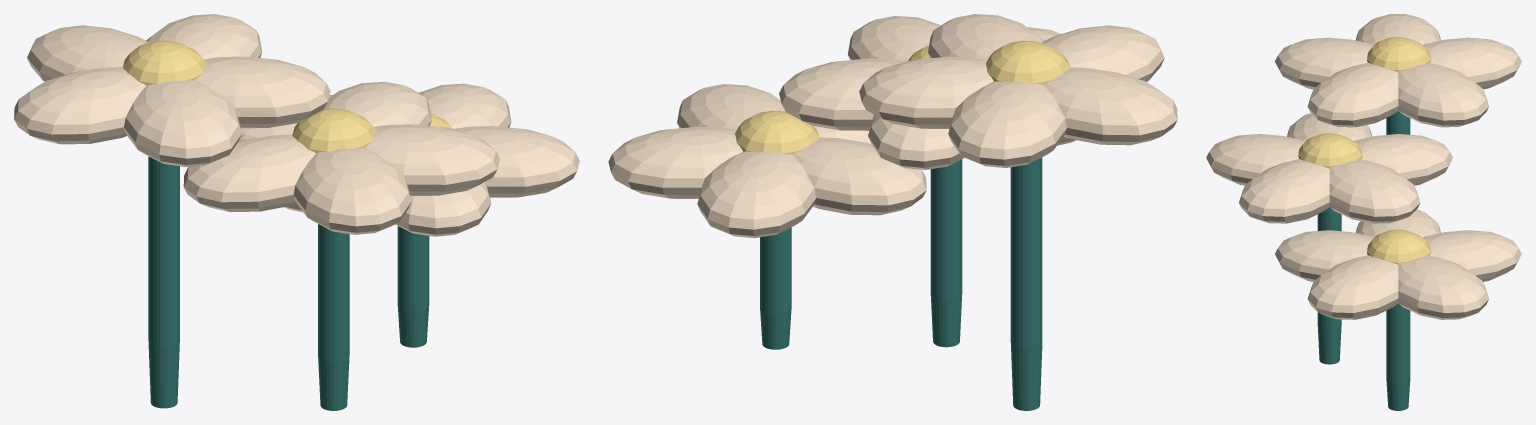
The model's file is Porcelain_daisies.obj.
3 views of the same model, side by side, from view 1: azimuth 30°, elevation 25°; view 2: azimuth 150°, elevation 25°; view 3: azimuth 270°, elevation 25° (orthographic). The views are drawn at different scales.
Visible parts, largest first — view 1: Petal, Stem, Pollen; view 2: Petal, Stem, Pollen; view 3: Petal, Pollen, Stem.
Boxes of the visible parts, <box> form: Petal: <box>14,14,579,236</box>; Stem: <box>148,156,429,410</box>; Pollen: <box>123,40,452,153</box>; Petal: <box>608,14,1177,238</box>; Stem: <box>760,157,1042,410</box>; Pollen: <box>735,40,1070,154</box>; Petal: <box>1206,14,1521,319</box>; Pollen: <box>1298,37,1431,265</box>; Stem: <box>1317,111,1410,410</box>.
Size of the model in its own units: 1.33 by 0.875 by 0.9195.
